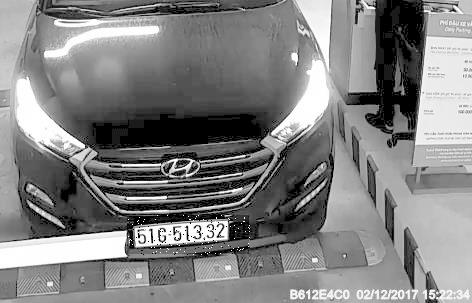License-plate: (129, 217, 252, 257)
